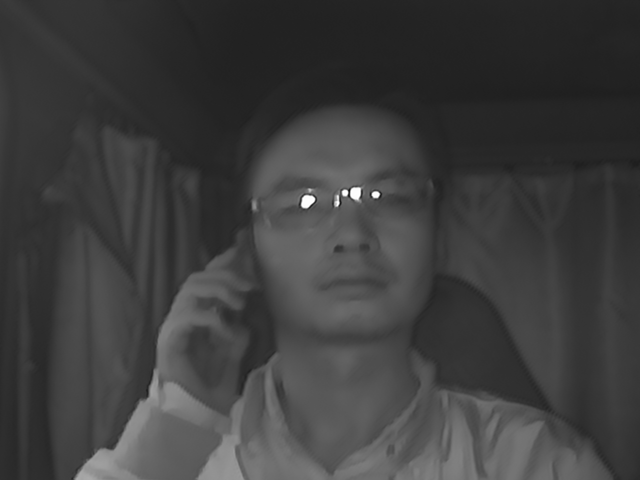hand: (156, 245, 255, 406)
